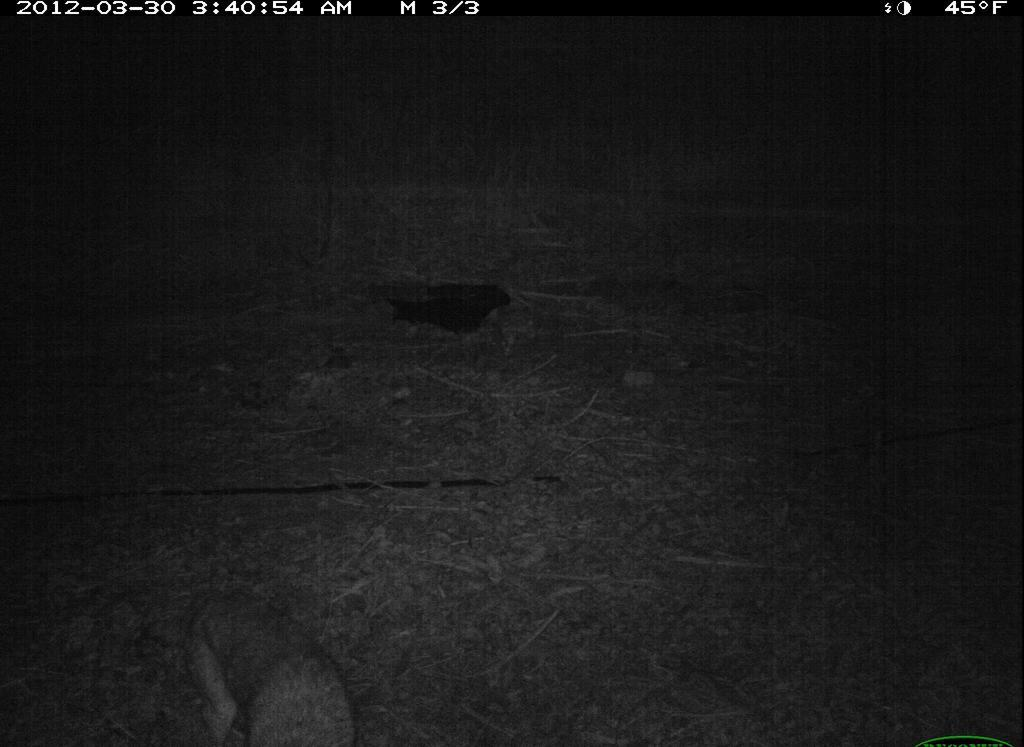coyote: (157, 557, 374, 742)
